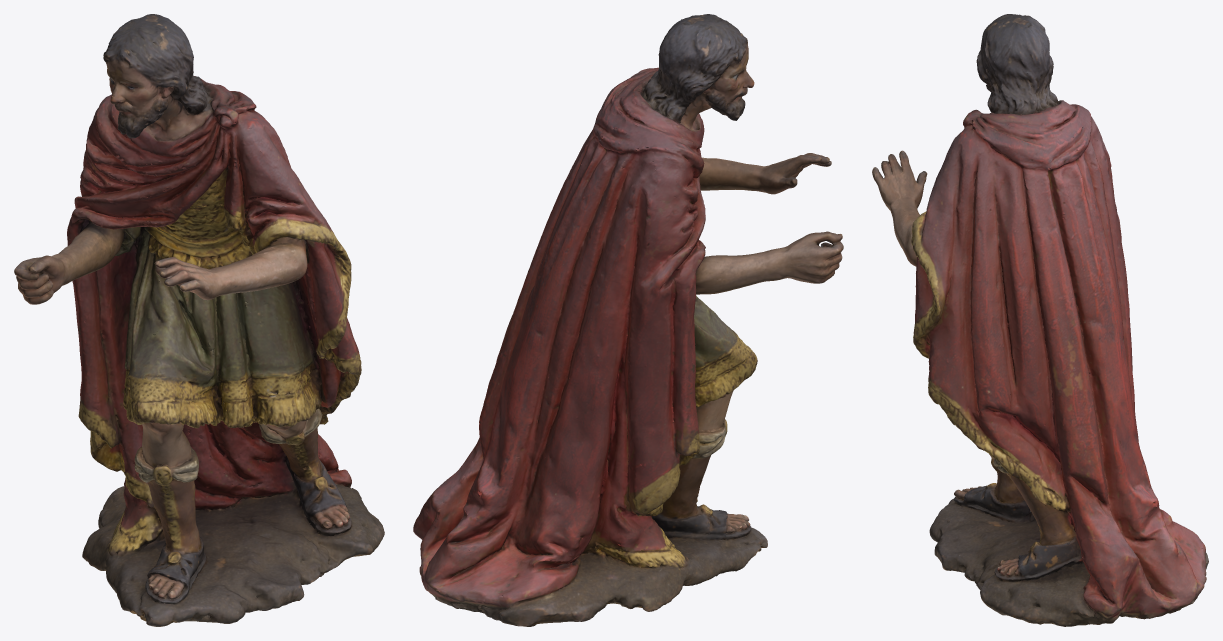
Rendered from gaspar.glb.
The picture shows the model from 3 angles, left to right: view 1: azimuth 30°, elevation 25°; view 2: azimuth 150°, elevation 25°; view 3: azimuth 270°, elevation 25°; orthographic projection. The views are drawn at different scales.
Parts seen in each view (by area): view 1: Object_2, Object_3, Object_4; view 2: Object_3, Object_2, Object_4; view 3: Object_2, Object_3, Object_4.
Boxes of the visible parts, x1,y1,x2,y2 form: Object_2: (14, 76, 384, 626); Object_3: (67, 29, 361, 533); Object_4: (58, 14, 289, 351); Object_3: (432, 26, 829, 543); Object_2: (413, 27, 843, 626); Object_4: (521, 14, 831, 359); Object_2: (882, 22, 1208, 626); Object_3: (872, 36, 1173, 566); Object_4: (875, 14, 1127, 362).
Bounding box in the file's own units: 0.1378 × 0.1966 × 0.1179.
1 material, 1 textured.
